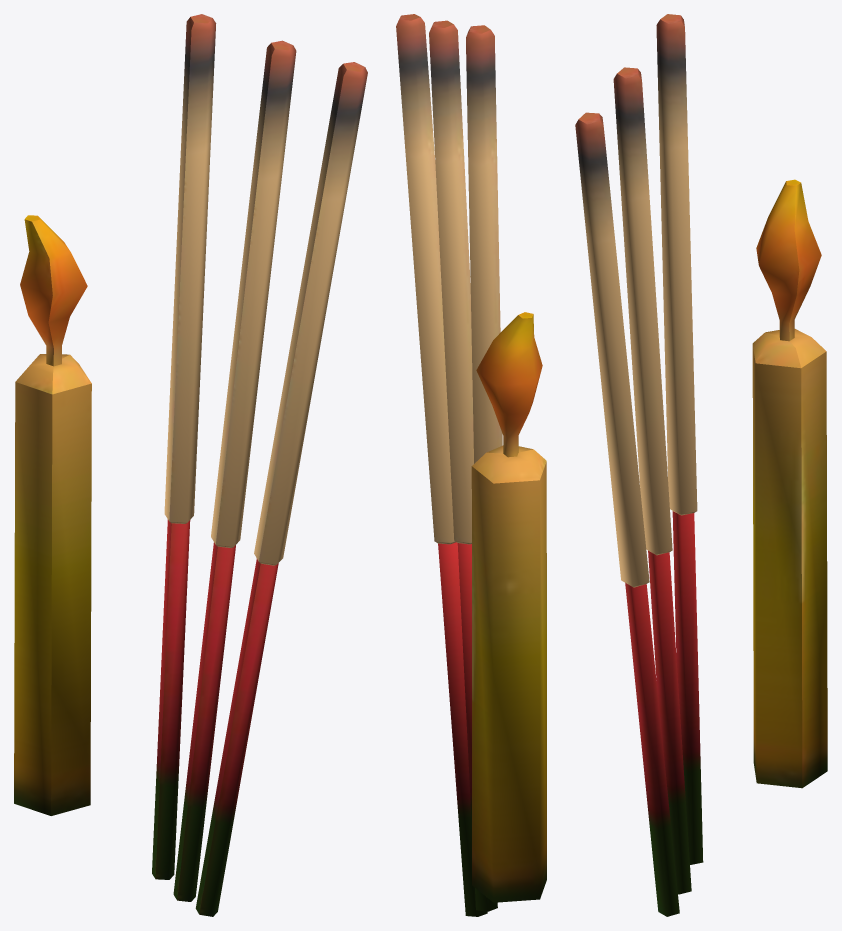
The picture shows the model from 3 angles, left to right: view 1: azimuth 30°, elevation 25°; view 2: azimuth 150°, elevation 25°; view 3: azimuth 270°, elevation 25°; orthographic projection.
Visible parts, largest first — view 1: Object_0_001; view 2: Object_0_001; view 3: Object_0_001.
Boxes of the visible parts, left/top/right/bottom form: Object_0_001: left=14, top=14, right=367, bottom=916; Object_0_001: left=396, top=14, right=546, bottom=916; Object_0_001: left=575, top=14, right=827, bottom=916.
Size of the model in its own units: 0.0498 by 0.1716 by 0.044.
1 material, 1 textured.
